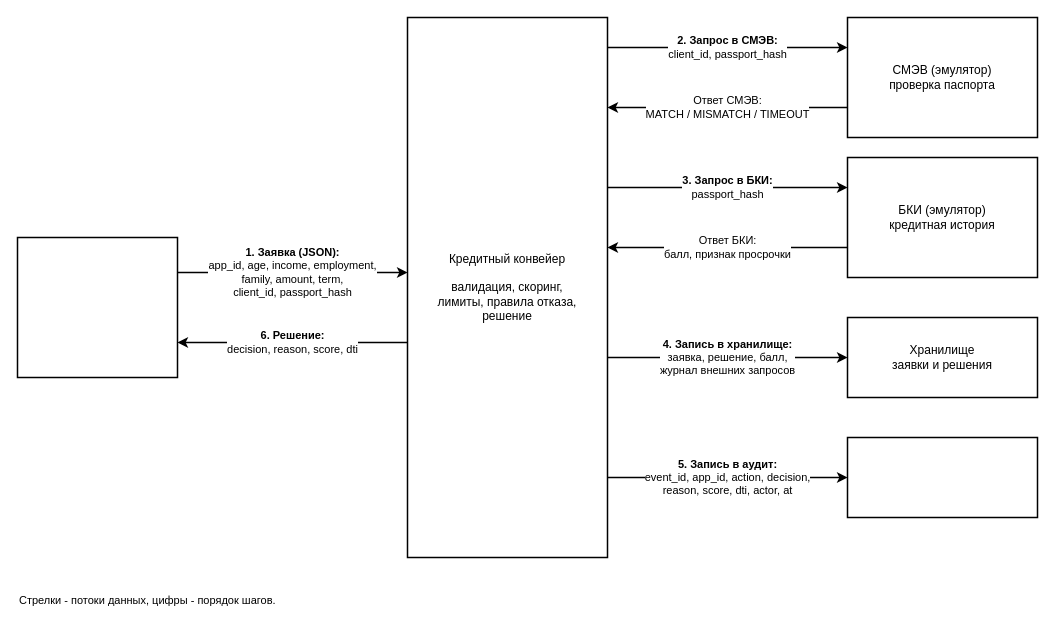
Image size: 1056x629. Some labels were removed from this diagram. The shapes that lost their labels are listed below. From the top down, each one's centre as x and y in pixels, then its label:
At [97,307]: "Клиент (приложение банка)".
At [942,477]: "Аудит журнал событий".
